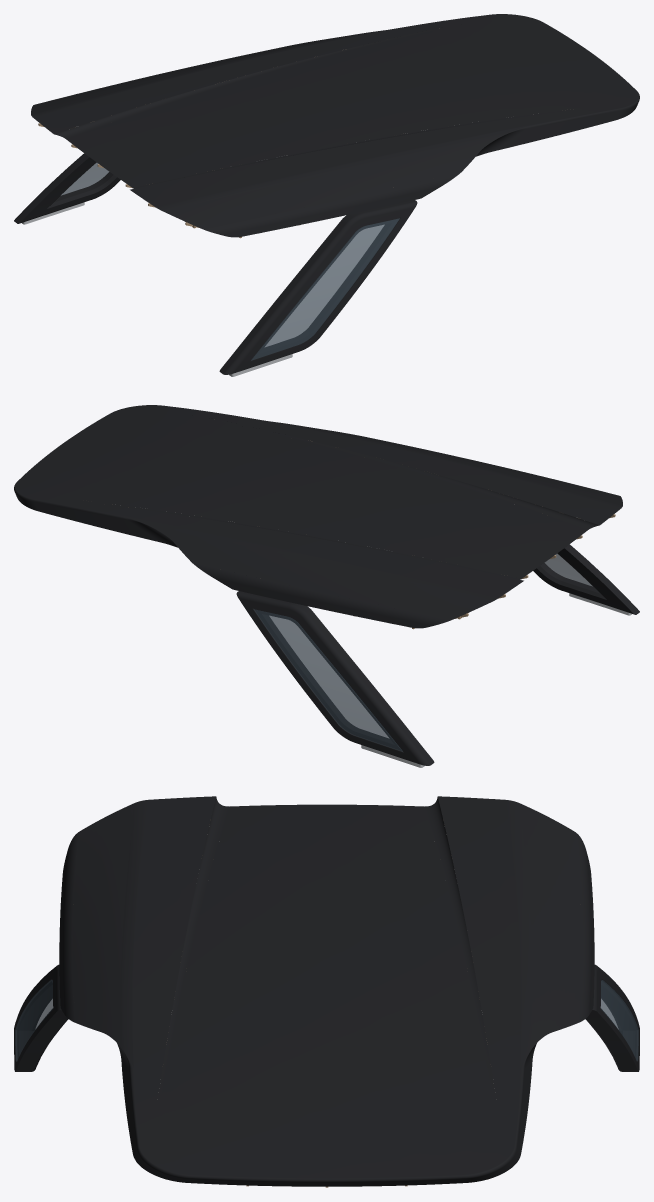
The model's file is k43-soft-top-ef5b218991.glb.
3 renders of one model, top to bottom at view 1: azimuth 30°, elevation 25°; view 2: azimuth 150°, elevation 25°; view 3: azimuth 270°, elevation 25°, orthographic. The views are drawn at different scales.
Parts seen in each view (by area): view 1: negro, vidrios; view 2: negro, vidrios; view 3: negro, vidrios.
Part boxes in pixels (left/top/right/bottom): negro: left=14, top=14, right=639, bottom=374; vidrios: left=61, top=162, right=399, bottom=360; negro: left=14, top=405, right=639, bottom=765; vidrios: left=254, top=553, right=592, bottom=751; negro: left=14, top=796, right=639, bottom=1186; vidrios: left=15, top=980, right=638, bottom=1061.
Size of the model in its own units: 5.27 by 1.48 by 3.87.
